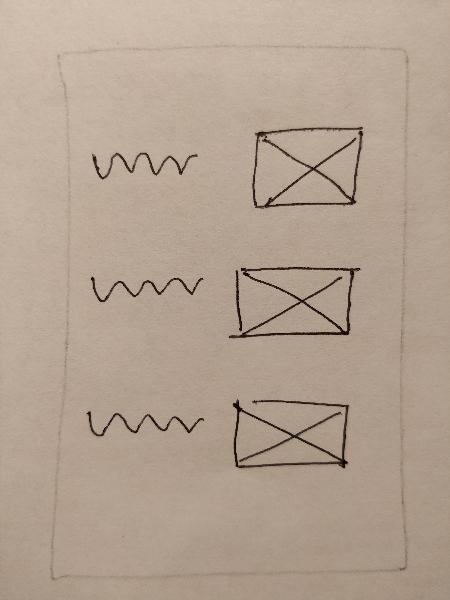image: (223, 387, 360, 491), (242, 115, 374, 220), (222, 258, 368, 347)
text: (77, 395, 207, 457), (81, 137, 204, 187), (86, 264, 210, 310)
